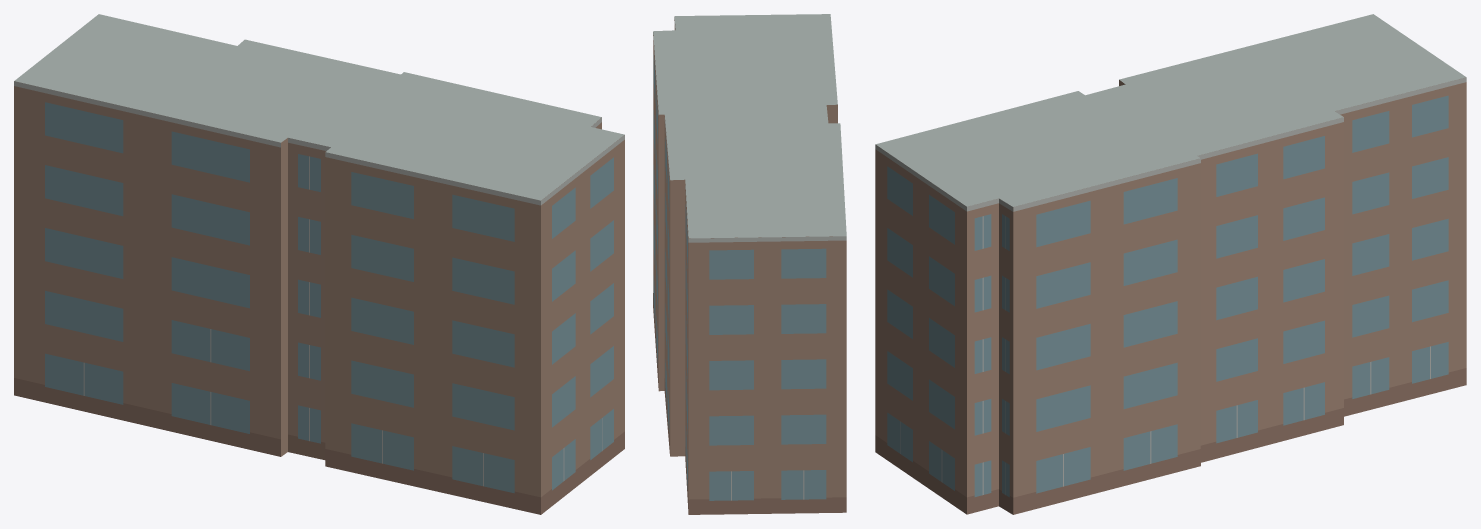
Rendered from survey-upis-32630633.glb.
3 renders of one model, left to right at view 1: azimuth 30°, elevation 25°; view 2: azimuth 150°, elevation 25°; view 3: azimuth 270°, elevation 25°, orthographic. The views are drawn at different scales.
Visible parts, largest first — view 1: survey-upis-32630633.tmp; view 2: survey-upis-32630633.tmp; view 3: survey-upis-32630633.tmp.
Part boxes in pixels (bbox=[...]): survey-upis-32630633.tmp: bbox=[14, 14, 624, 514]; survey-upis-32630633.tmp: bbox=[653, 14, 846, 514]; survey-upis-32630633.tmp: bbox=[875, 14, 1466, 514].
Bounding box in the file's own units: 20.94 × 15.56 × 27.09.
